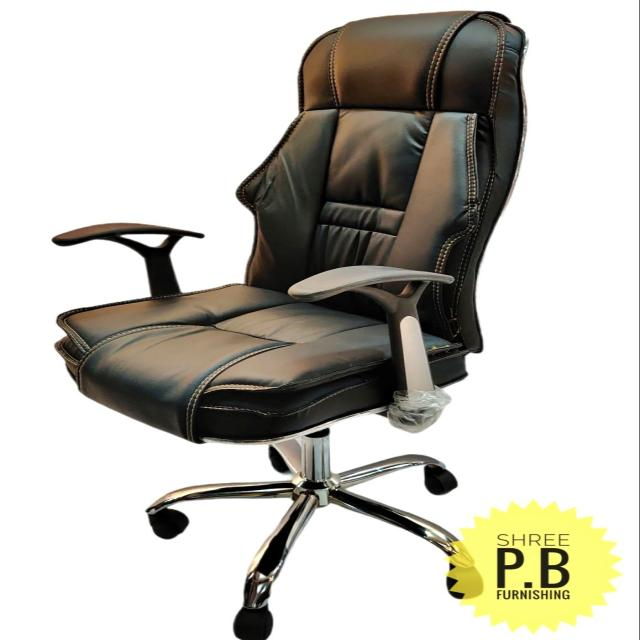chair: (12, 0, 594, 640)
